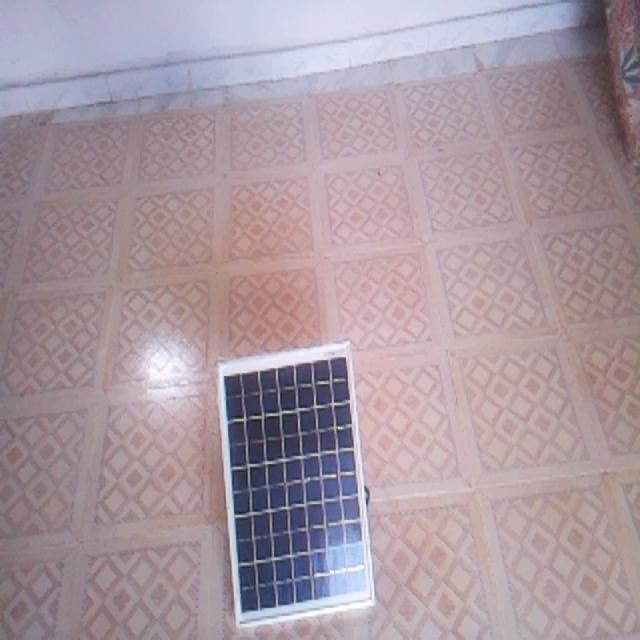Normal Solar Panel: (218, 345, 375, 627)
